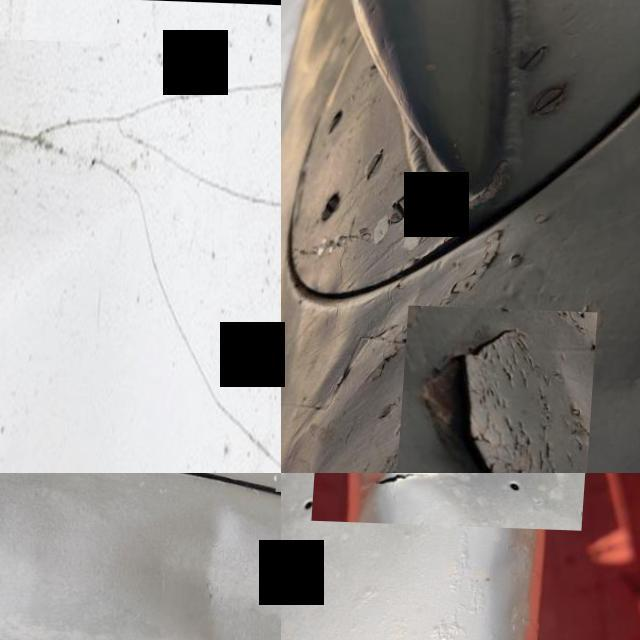Crack: (0, 75, 281, 469), (401, 303, 602, 473), (0, 137, 281, 219), (465, 473, 539, 503)
Dent: (60, 484, 281, 640), (315, 473, 596, 526)
